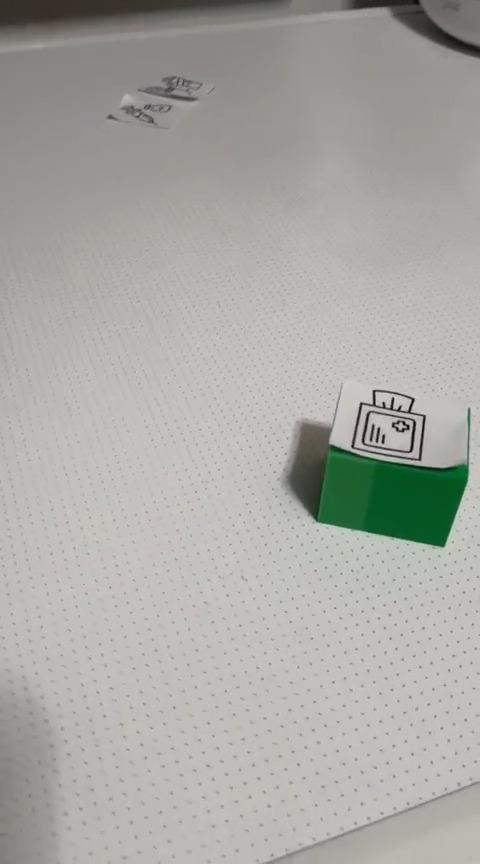Gauze: (313, 378, 471, 548)
